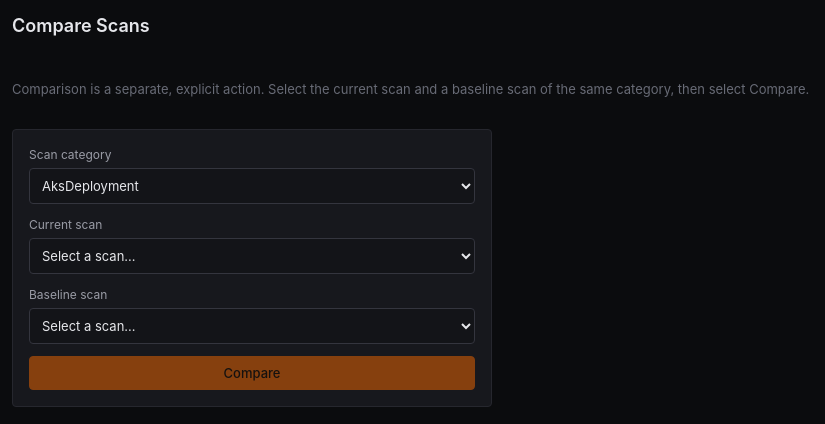
Test case: ComparisonSetupPage (flow 11: select and compare scans) › enables Compare only once two different scans of the same category are picked
Expected: the button "Compare" is disabled, [29,356,475,390]
Select "SCAN-20260912-00001 · 9/12/2026, 10:00:00 AM" in the dropdown labelled "Current scan": (252, 256) [29,238,475,274]
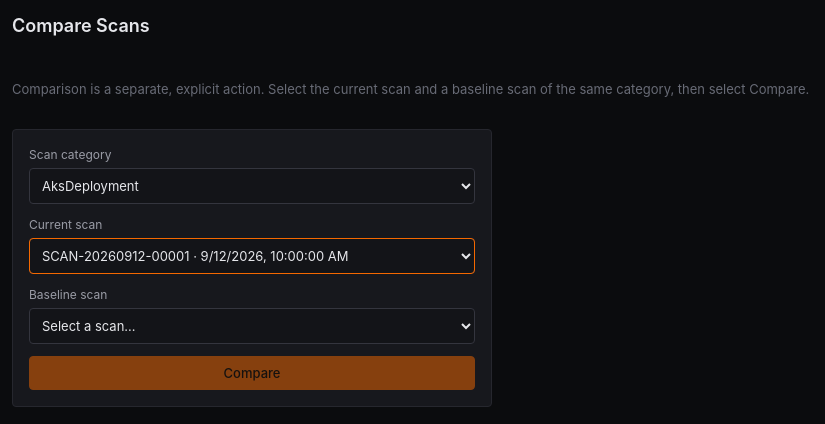
Select "SCAN-20260911-00001 · 9/11/2026, 10:00:00 AM" in the dropdown labelled "Baseline scan": (252, 326) [29,308,475,344]
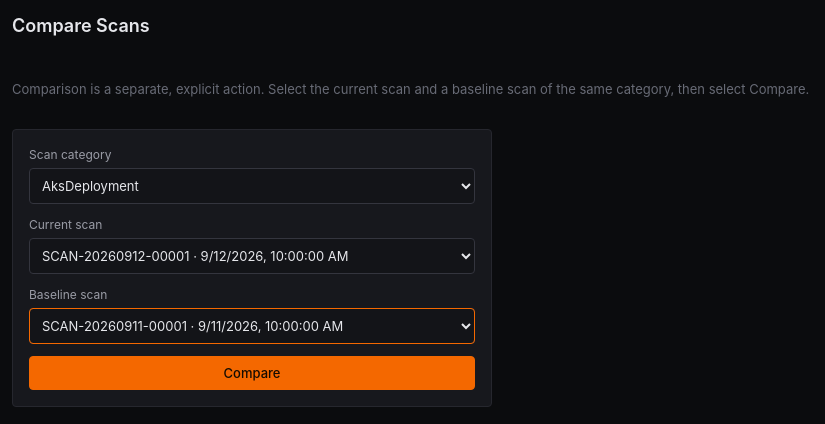
Result: the button "Compare" is enabled at [29,356,475,390]
